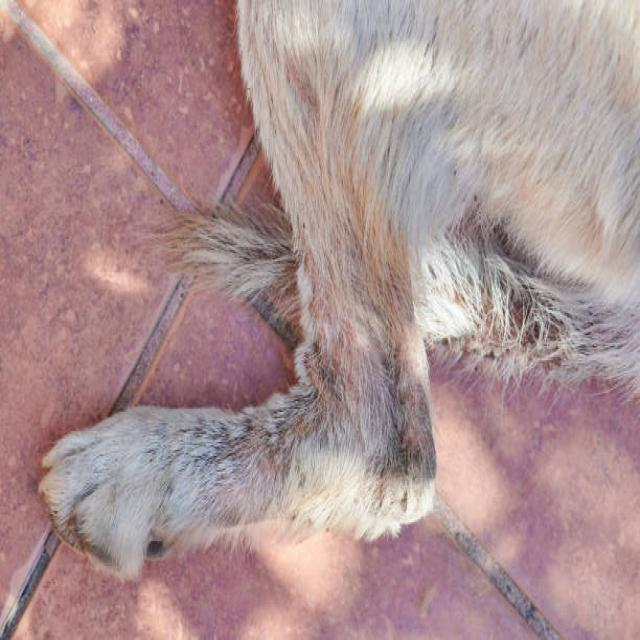fungal infection: (186, 410, 321, 523), (455, 240, 564, 376), (311, 235, 365, 385), (380, 361, 436, 468), (365, 449, 431, 524), (140, 423, 188, 502), (370, 240, 411, 330), (73, 440, 128, 492)
